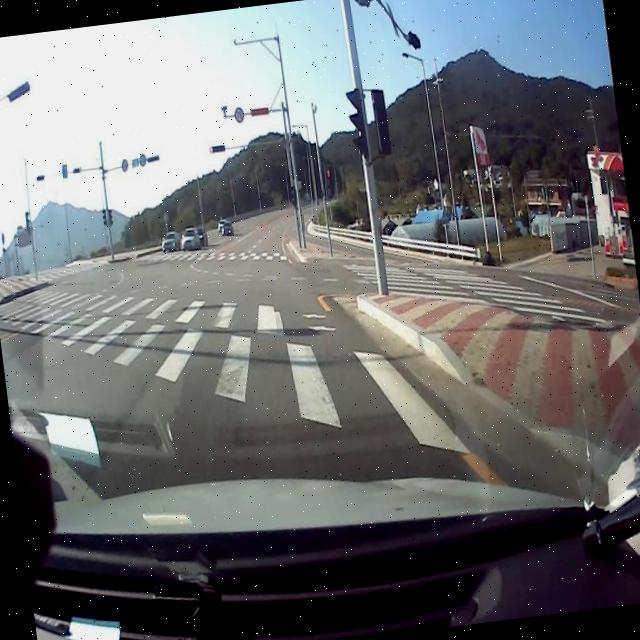crosswalk: (0, 289, 472, 456), (341, 264, 606, 322), (30, 262, 105, 283), (133, 251, 288, 261)
